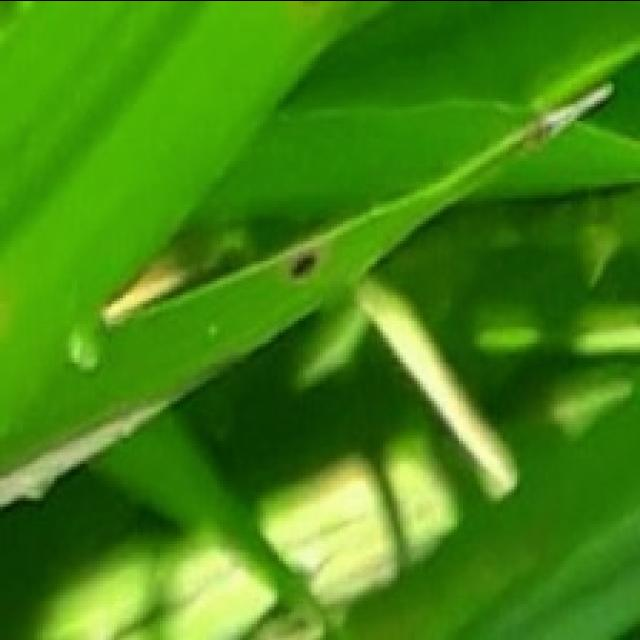Unhealthy: (356, 277, 525, 499), (0, 404, 172, 509), (101, 249, 197, 329), (530, 82, 610, 157), (288, 244, 329, 281)
